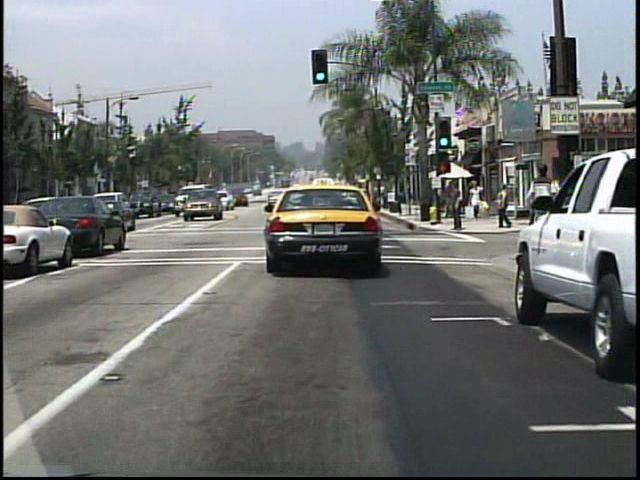person: (525, 159, 559, 257), (450, 182, 467, 234), (496, 181, 514, 229), (471, 180, 486, 221), (444, 181, 455, 219)
